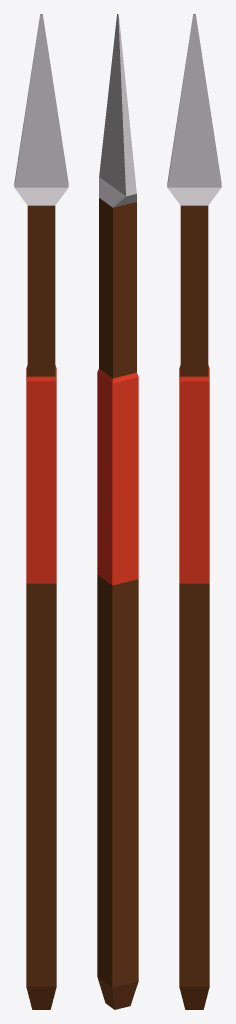
File: SharpStick.fbx
3 views of the same model, side by side, from view 1: azimuth 90°, elevation 25°; view 2: azimuth 210°, elevation 25°; view 3: azimuth 270°, elevation 25° (orthographic).
Visible parts, largest first — view 1: Cube; view 2: Cube; view 3: Cube.
Part boxes in pixels (left/top/right/bottom): Cube: left=14, top=14, right=68, bottom=1009; Cube: left=97, top=14, right=138, bottom=1009; Cube: left=167, top=14, right=221, bottom=1009.
Size of the model in its own units: 2.17 by 78.31 by 3.87.
